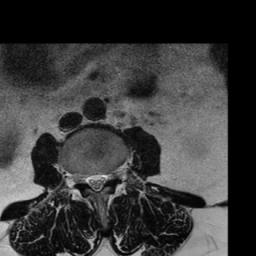CCS_normal: (94, 167, 100, 196)
LFS_stenosis: (107, 166, 114, 188)
LLS_normal: (100, 167, 107, 190)
RFS_normal: (78, 167, 86, 188)
RLS_normal: (86, 167, 94, 190)
